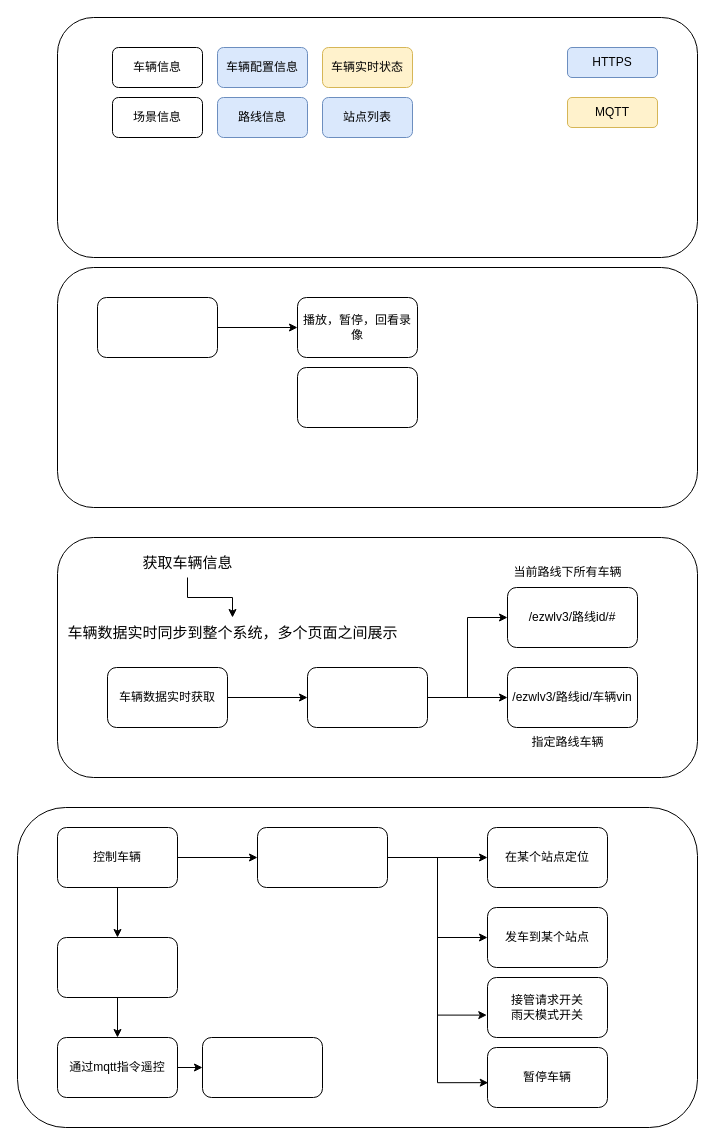
The diagram is 715 pixels wide and 1145 high, and some of its shapes have lost their labels. Here are the shapes that lost their labels. From the top down, the box of each, then its label:
(96, 296, 218, 358): 车辆监控画面
(296, 366, 418, 428): 移动云台
(306, 666, 428, 728): 订阅mqtt主题
(256, 826, 388, 888): 通过网络请求 控制车辆 传输参数 车辆vin码和属性
(56, 936, 178, 998): 遥控车辆
(202, 1036, 322, 1098): 主题：/IPMR/车辆vin
